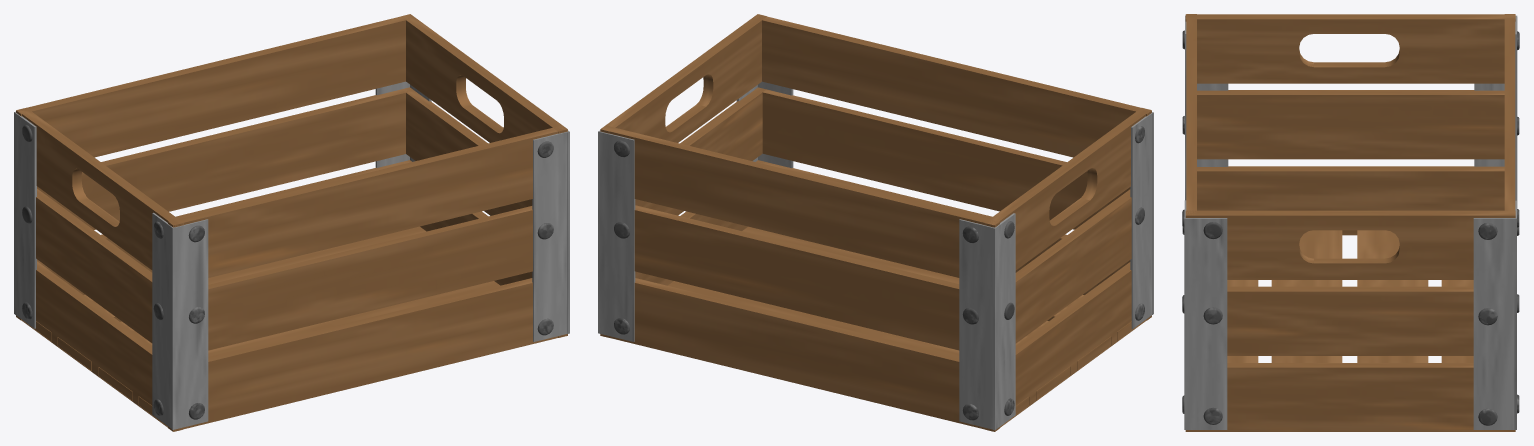
File: Steel plated crate.fbx
The picture shows the model from 3 angles, left to right: view 1: azimuth 30°, elevation 25°; view 2: azimuth 150°, elevation 25°; view 3: azimuth 270°, elevation 25°; orthographic projection. The views are drawn at different scales.
Parts seen in each view (by area): view 1: SteelBox; view 2: SteelBox; view 3: SteelBox.
Boxes of the visible parts, left/top/right/bottom form: SteelBox: left=14, top=14, right=569, bottom=431; SteelBox: left=598, top=14, right=1153, bottom=431; SteelBox: left=1182, top=14, right=1519, bottom=431.
Size of the model in its own units: 79.58 by 39.19 by 55.35.
1 material, 1 textured.
